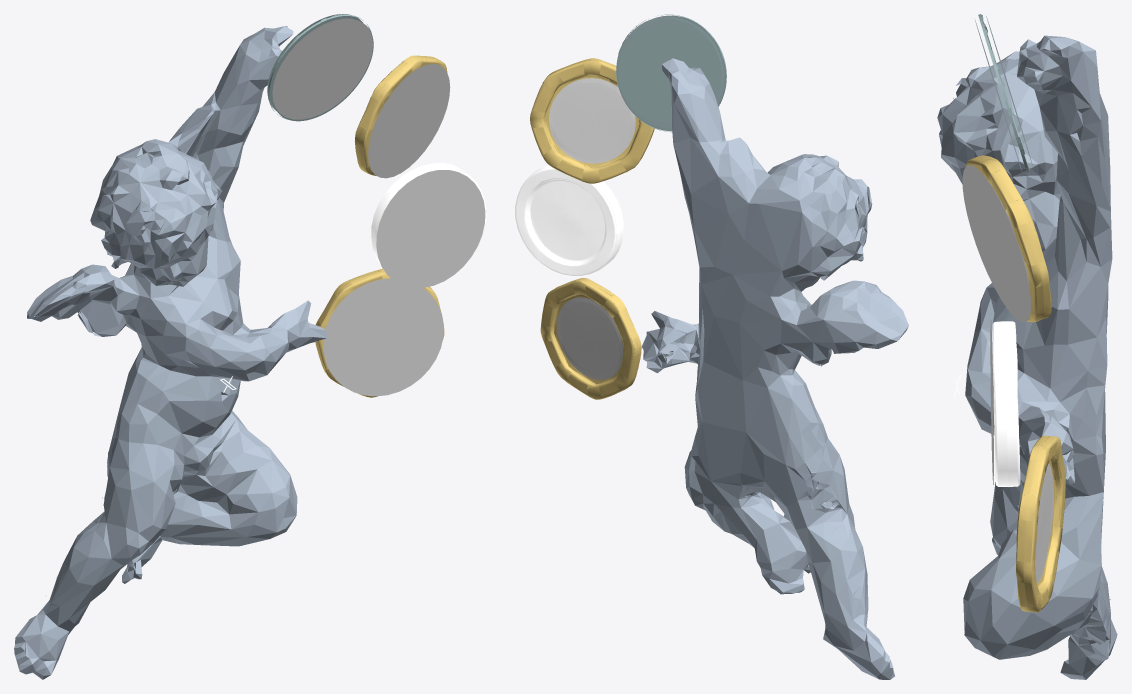
Rendered from MOBILE2.glb.
3 views of the same model, side by side, from view 1: azimuth 30°, elevation 25°; view 2: azimuth 150°, elevation 25°; view 3: azimuth 270°, elevation 25° (orthographic). The views are drawn at different scales.
Parts seen in each view (by area): view 1: Angel, CoinFace4, CoinFace3, CoinFace1, CoinFace2, Coin2, Coin4, Coin3, Coin1; view 2: Angel, Coin2, Coin3, Coin4, Coin1; view 3: Angel, Coin4, CoinFace2, Coin3, Coin2, Coin1, CoinFace3.
Boxes of the visible parts, bbox=[...] form: Angel: bbox=[14, 26, 326, 679]; CoinFace4: bbox=[323, 278, 443, 396]; CoinFace3: bbox=[376, 170, 485, 287]; CoinFace1: bbox=[272, 18, 372, 119]; CoinFace2: bbox=[368, 64, 450, 178]; Coin2: bbox=[354, 55, 447, 175]; Coin4: bbox=[315, 268, 444, 397]; Coin3: bbox=[371, 162, 486, 264]; Coin1: bbox=[267, 14, 373, 121]; Angel: bbox=[641, 58, 908, 679]; Coin2: bbox=[530, 58, 654, 183]; Coin3: bbox=[515, 164, 623, 276]; Coin4: bbox=[540, 278, 641, 399]; Coin1: bbox=[616, 14, 726, 132]; Angel: bbox=[937, 35, 1117, 679]; Coin4: bbox=[1016, 435, 1065, 612]; CoinFace2: bbox=[962, 165, 1030, 322]; Coin3: bbox=[992, 321, 1020, 486]; Coin2: bbox=[966, 155, 1051, 322]; Coin1: bbox=[975, 14, 1033, 174]; CoinFace3: bbox=[990, 320, 993, 484].
Size of the model in its own units: 0.5693 by 0.7818 by 0.1558.
Materials: 6 (1 with a texture image).
